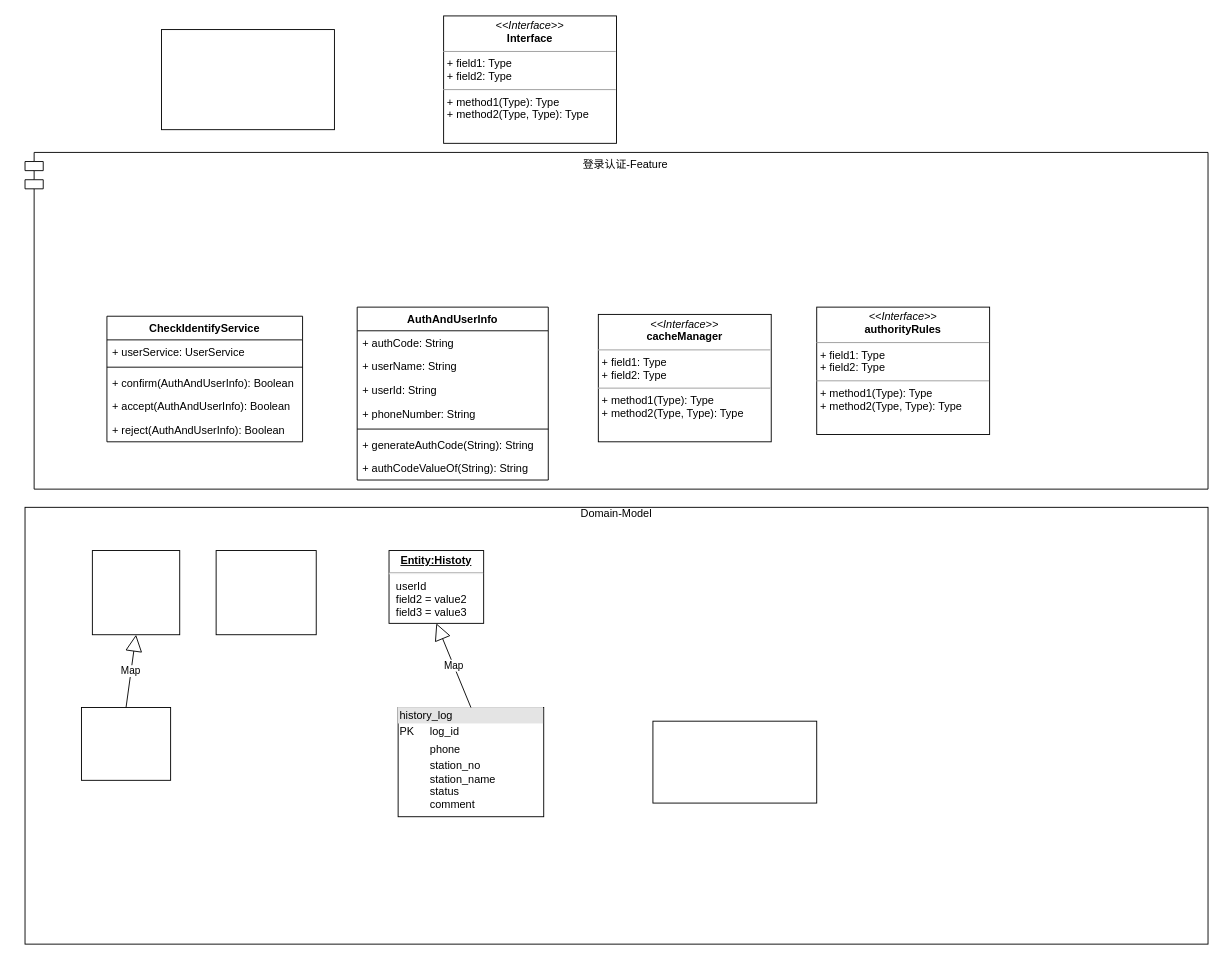
Some shapes in this 1224 by 960 pixel diagram are drawn without their labels. Here are the shapes that lost their labels. From the top down, the centre of each, then its label:
At point (247, 79): "<<Interface>> 登录授权接口 + field1: Type + field2: Type + auth(String): JWTToken".
At point (135, 592): "Entity:SystemUser field1 = value1 field2 = value2 field3 = value3".
At point (265, 592): "Entity:Station field1 = value1 field2 = value2 field3 = value3".
At point (126, 743): "SystemUser PK uniqueId FK1 foreignKey fieldname".
At point (734, 761): "Station PK uniqueId FK1 foreignKey fieldname".
